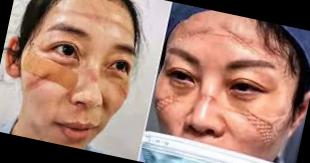mask_weared_incorrect: (145, 37, 300, 163)
without_mask: (22, 16, 140, 153)
